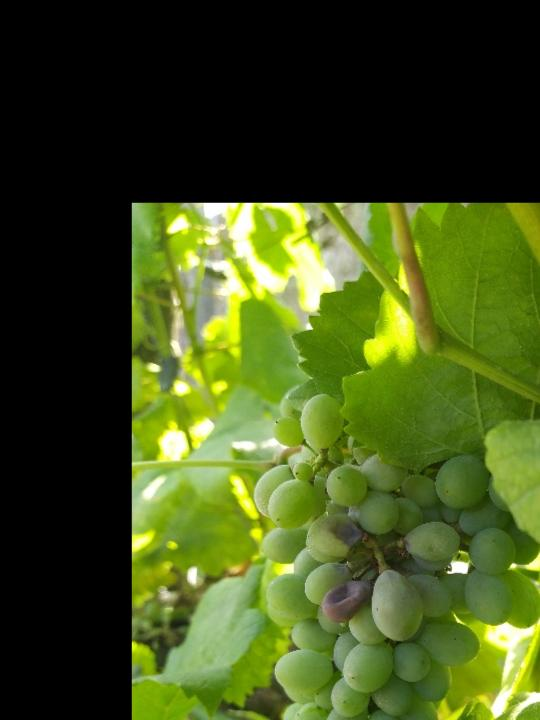grape: (251, 384, 540, 720)
